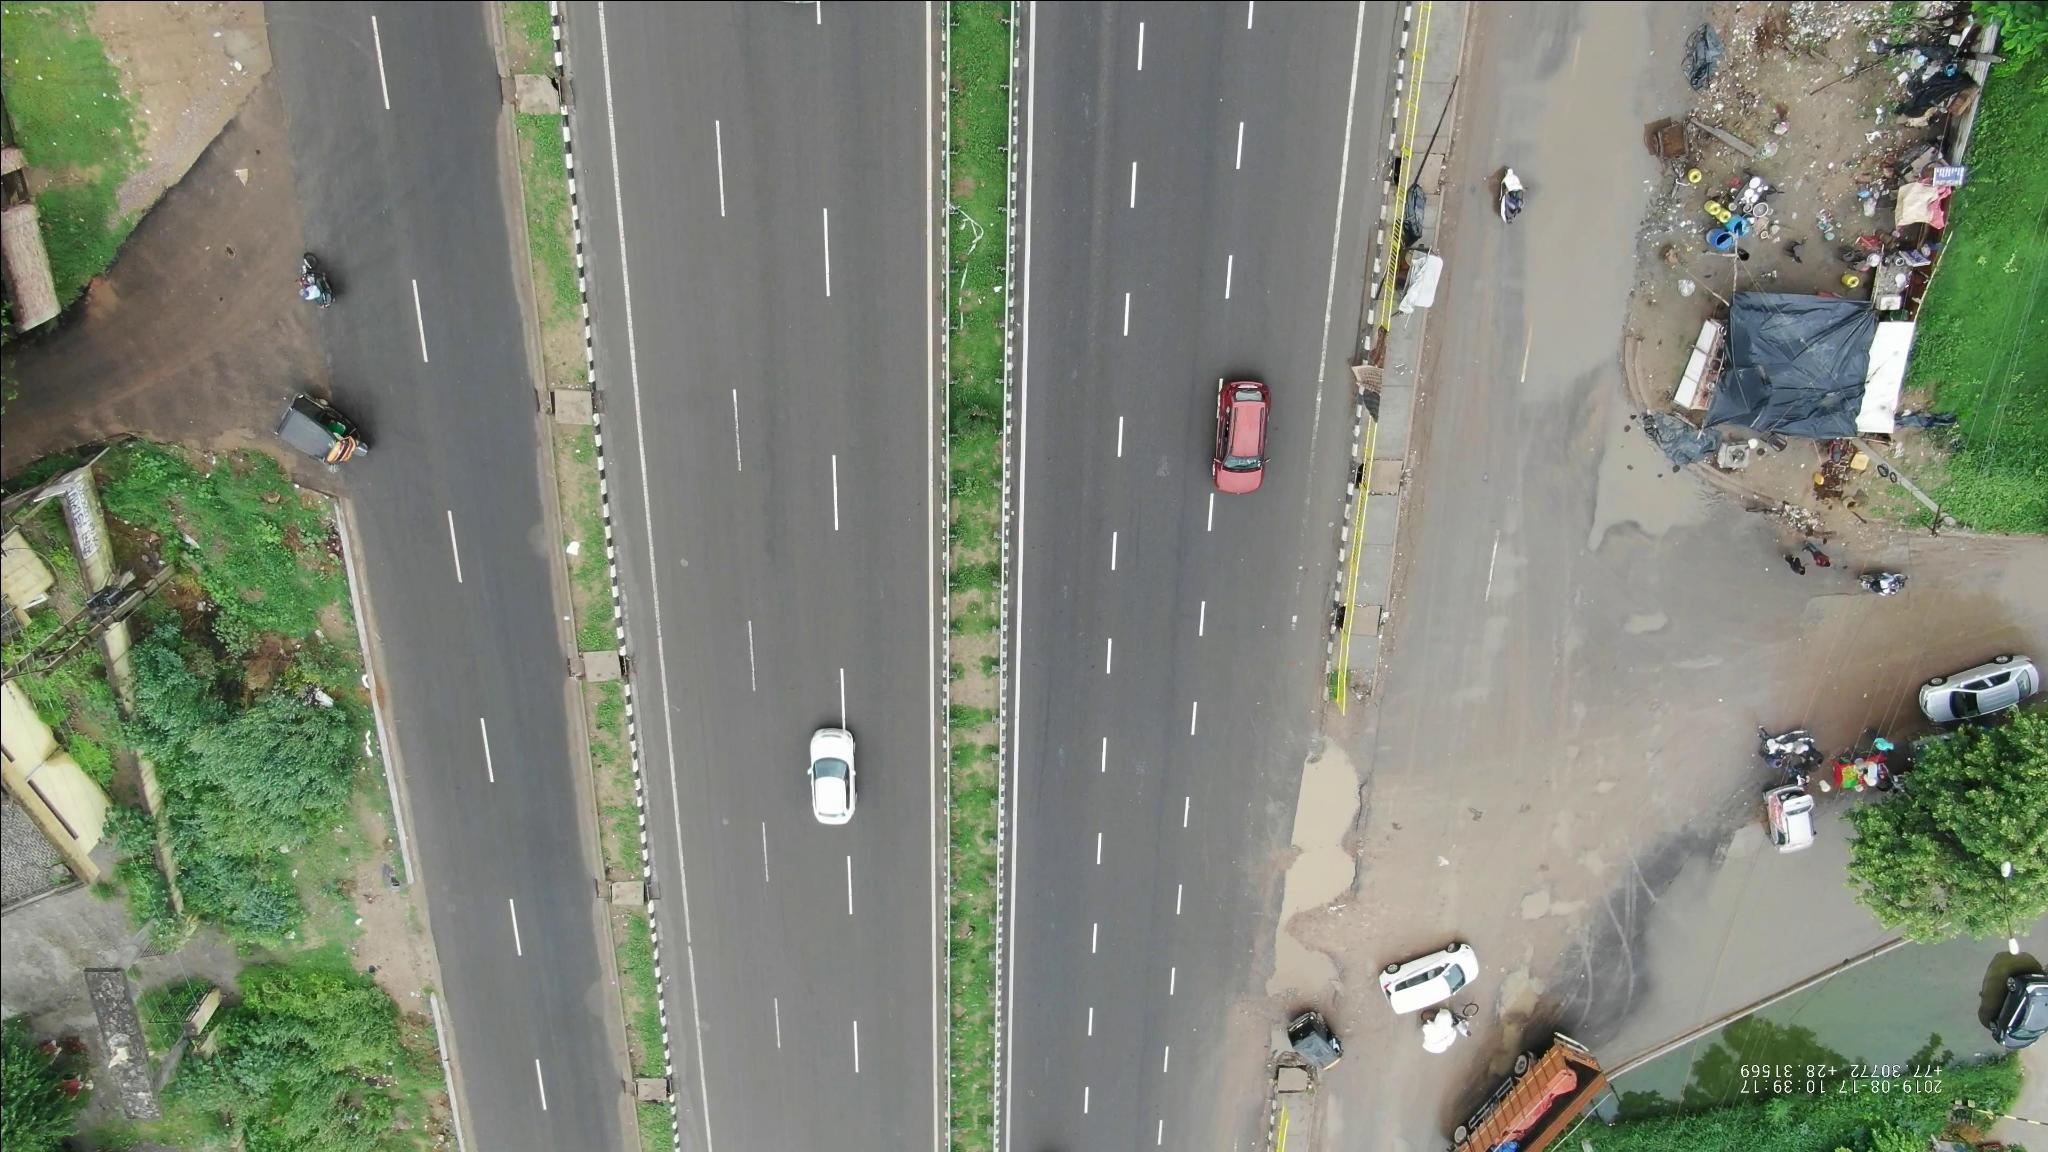Potholes: (1260, 737, 1388, 1025), (1575, 429, 1727, 553), (1504, 806, 1622, 956), (1467, 519, 1540, 698), (1591, 588, 1723, 686), (1466, 966, 1563, 1068), (1537, 698, 1627, 802)
Waterlogging: (1490, 25, 1696, 392)
